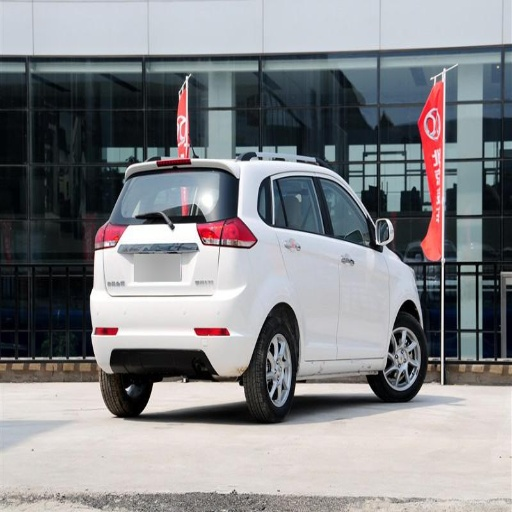back_bumper: (91, 248, 266, 379)
back_right_door: (274, 173, 338, 360)
trunk: (98, 222, 220, 299)
